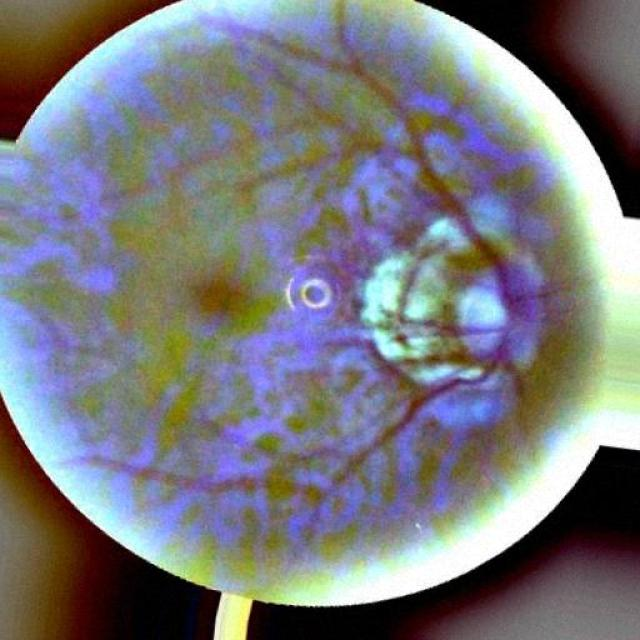Macula: (191, 264, 249, 316)
Nerves: (197, 2, 500, 294), (41, 362, 490, 500), (366, 321, 470, 376), (381, 309, 468, 337), (500, 356, 525, 414)
Optic Disk: (458, 254, 546, 366)
